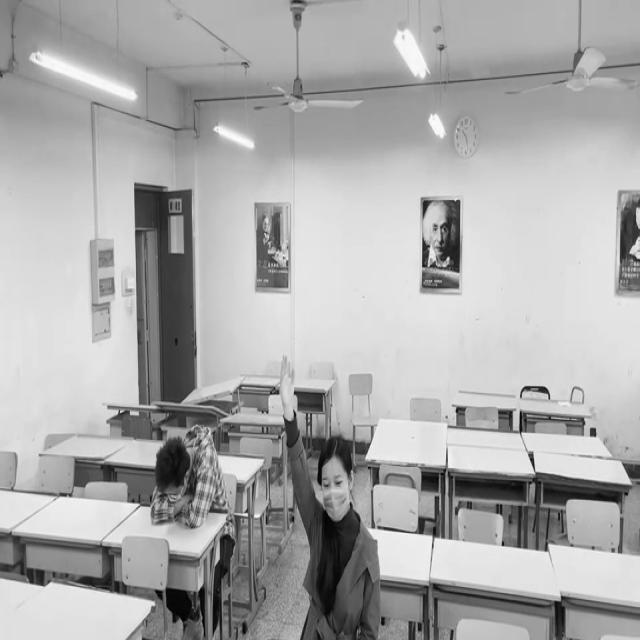sleep: (152, 425, 226, 528)
study: (281, 354, 380, 639)
